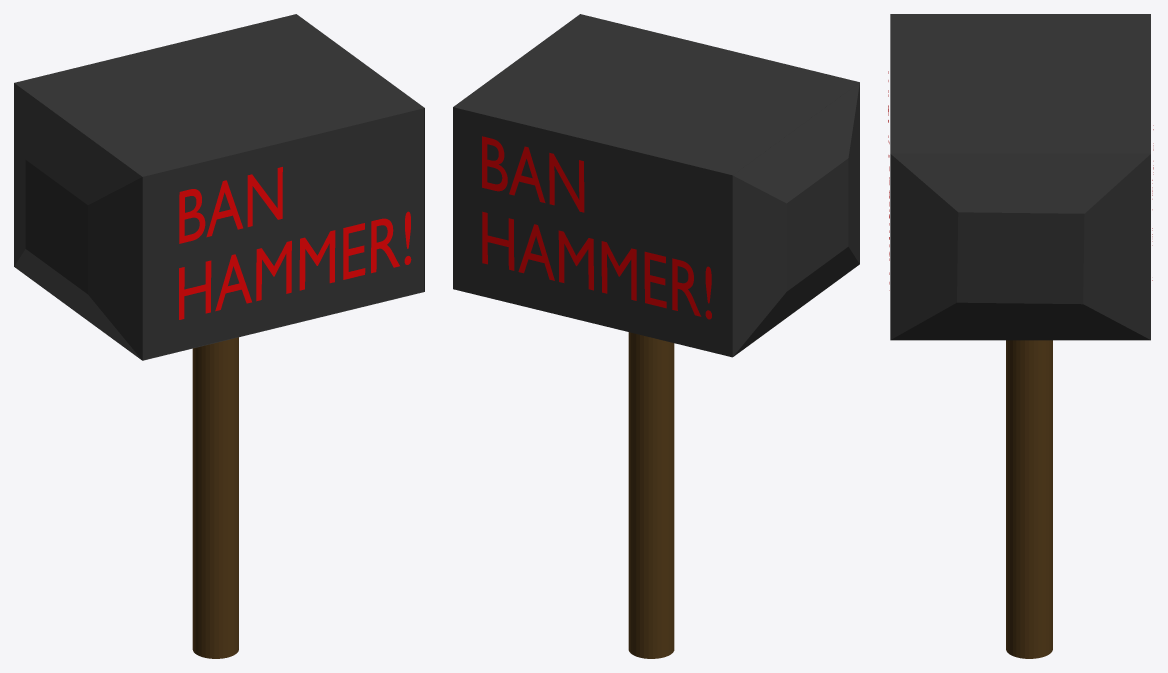
File: ban-hammer.glb
3 views of the same model, side by side, from view 1: azimuth 30°, elevation 25°; view 2: azimuth 150°, elevation 25°; view 3: azimuth 270°, elevation 25° (orthographic). The views are drawn at different scales.
Visible parts, largest first — view 1: Cube, Cylinder, Text; view 2: Cube, Cylinder, Text.002; view 3: Cube, Cylinder.
Boxes of the visible parts, x1,y1,x2,y2 form: Cube: (14, 14, 424, 360); Cylinder: (192, 337, 238, 658); Text: (179, 167, 411, 319); Cube: (453, 14, 859, 357); Cylinder: (628, 332, 674, 658); Text.002: (482, 136, 711, 319); Cube: (890, 14, 1150, 340); Cylinder: (1006, 340, 1052, 658).
Size of the model in its own units: 1.4 by 2.27 by 0.9682.
